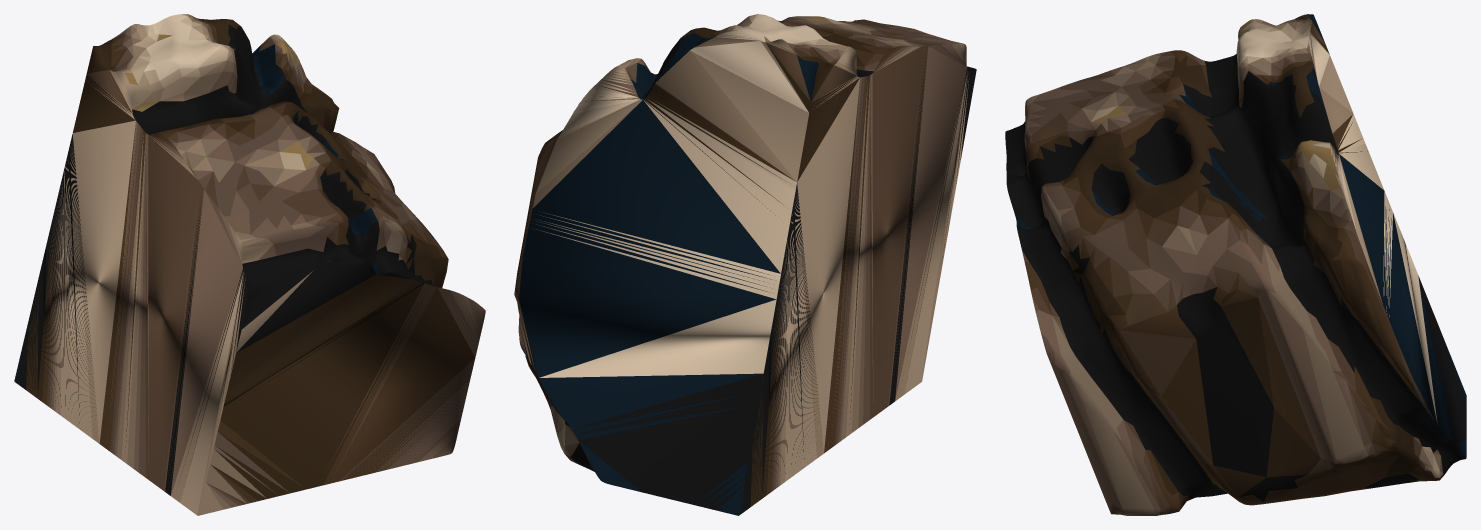
File: rock_column_wreck_mr.glb
The picture shows the model from 3 angles, left to right: view 1: azimuth 30°, elevation 25°; view 2: azimuth 150°, elevation 25°; view 3: azimuth 270°, elevation 25°; orthographic projection. The views are drawn at different scales.
Parts seen in each view (by area): view 1: rock_column_wreck_mr; view 2: rock_column_wreck_mr; view 3: rock_column_wreck_mr.
Boxes of the visible parts, box(x1,y1,x2,y2) form: rock_column_wreck_mr: box(14, 14, 485, 515); rock_column_wreck_mr: box(514, 14, 976, 515); rock_column_wreck_mr: box(1005, 14, 1466, 515).
Bounding box in the file's own units: 22.8 × 34.33 × 36.37.
